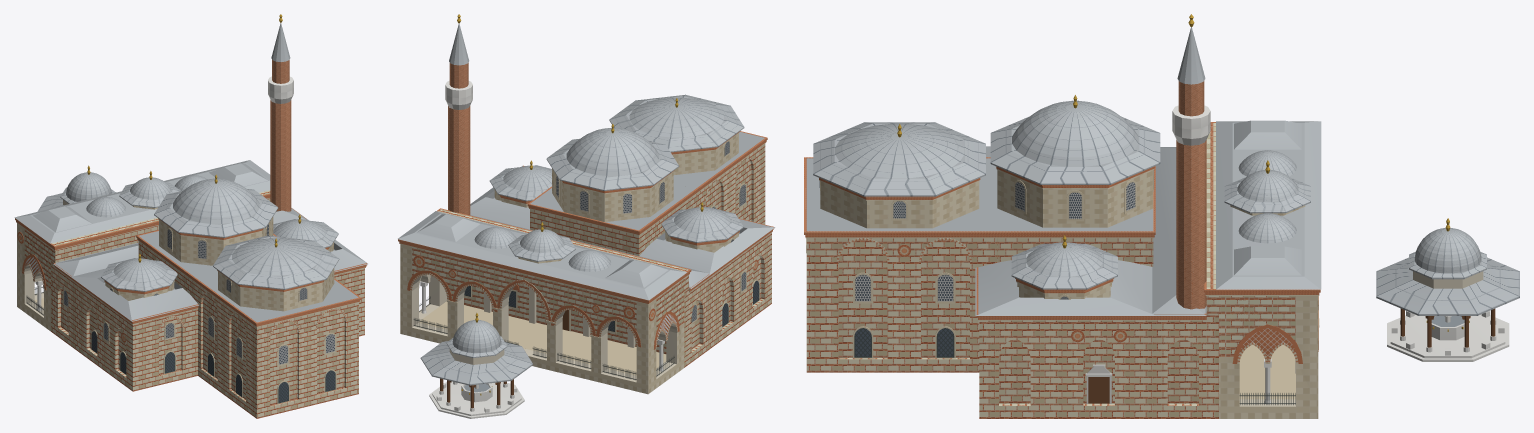
File: orhan-bey-camii_v07.glb
3 renders of one model, left to right at view 1: azimuth 30°, elevation 25°; view 2: azimuth 150°, elevation 25°; view 3: azimuth 270°, elevation 25°, orthographic. The views are drawn at different scales.
Visible parts, largest first — view 1: Cami_Govde, Cami_Mihrap, Kubbe_Mihrap, Kubbe_Ana, Kubbe_SonCemaat, Minare_1, Kubbe_Tabhane_B, Cami_SonCemaat, Sadirvan, Kubbe_Tabhane_D, Revak_Cephe; view 2: Cami_Govde, Cami_SonCemaat, Kubbe_SonCemaat, Kubbe_Ana, Sadirvan, Kubbe_Mihrap, Cami_Mihrap, Minare_1, Revak_Cephe, Kubbe_Tabhane_B, Kubbe_Tabhane_D, Revak_Kemerler; view 3: Cami_Govde, Cami_Mihrap, Kubbe_SonCemaat, Kubbe_Ana, Kubbe_Mihrap, Sadirvan, Cami_SonCemaat, Minare_1, Kubbe_Tabhane_D, Revak_Cephe.
Part boxes in pixels (bbox=[...]): Cami_Govde: bbox=[15, 171, 367, 403]; Cami_Mihrap: bbox=[191, 269, 358, 418]; Kubbe_Mihrap: bbox=[213, 235, 339, 311]; Kubbe_Ana: bbox=[154, 178, 278, 265]; Kubbe_SonCemaat: bbox=[14, 160, 270, 243]; Minare_1: bbox=[268, 14, 293, 211]; Kubbe_Tabhane_B: bbox=[101, 258, 177, 300]; Cami_SonCemaat: bbox=[17, 223, 50, 331]; Sadirvan: bbox=[37, 165, 116, 211]; Kubbe_Tabhane_D: bbox=[273, 219, 338, 251]; Revak_Cephe: bbox=[22, 254, 46, 315]; Cami_Govde: bbox=[398, 98, 775, 375]; Cami_SonCemaat: bbox=[400, 244, 684, 394]; Kubbe_SonCemaat: bbox=[398, 211, 686, 300]; Kubbe_Ana: bbox=[546, 128, 679, 221]; Sadirvan: bbox=[420, 313, 532, 418]; Kubbe_Mihrap: bbox=[609, 94, 744, 174]; Cami_Mihrap: bbox=[673, 132, 765, 224]; Minare_1: bbox=[445, 14, 472, 215]; Revak_Cephe: bbox=[407, 270, 679, 380]; Kubbe_Tabhane_B: bbox=[661, 207, 743, 252]; Kubbe_Tabhane_D: bbox=[489, 165, 551, 207]; Revak_Kemerler: bbox=[484, 287, 635, 353]; Cami_Govde: bbox=[804, 95, 1320, 418]; Cami_Mihrap: bbox=[806, 158, 997, 372]; Kubbe_SonCemaat: bbox=[1216, 120, 1321, 289]; Kubbe_Ana: bbox=[990, 100, 1160, 227]; Kubbe_Mihrap: bbox=[813, 122, 985, 228]; Sadirvan: bbox=[1376, 218, 1519, 361]; Cami_SonCemaat: bbox=[1219, 296, 1318, 418]; Minare_1: bbox=[1172, 14, 1210, 309]; Kubbe_Tabhane_D: bbox=[1011, 242, 1117, 298]; Revak_Cephe: bbox=[1232, 296, 1319, 404].
Size of the model in its own units: 26.2 by 28.65 by 46.86.
23 materials, 14 textured.
